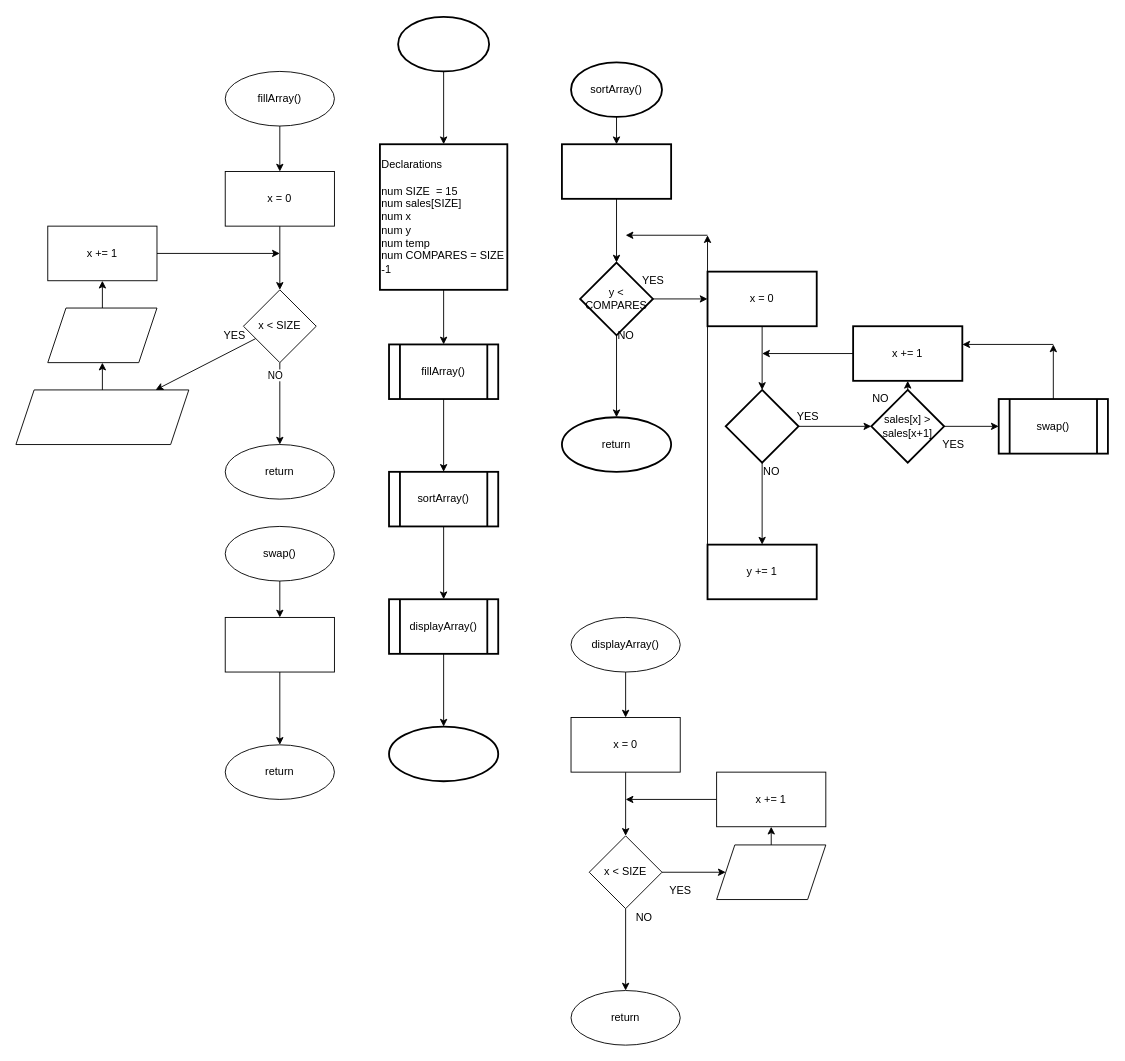
Some shapes in this 1125 by 1061 pixel diagram are drawn without their labels. The shapes that lost their labels are listed below. From the top down, each one's centre as x and y in pixels, then its label:
[443,43]: start
[616,171]: y = 0
[102,335]: input sales[x]
[102,417]: output "Enter a sales value for month ", x
[761,426]: x < COMPARES
[279,644]: temp = sales[x+1] sales[x+1] = sales[x] sales[x] = temp
[443,753]: stop
[771,872]: output sales[x]
